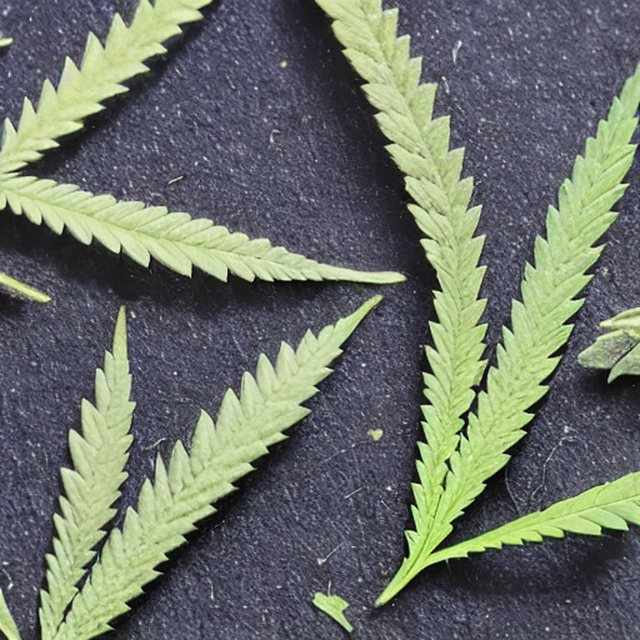Marijuana Leaf: (0, 0, 640, 640), (302, 0, 639, 610), (0, 292, 385, 639), (0, 0, 407, 293)
